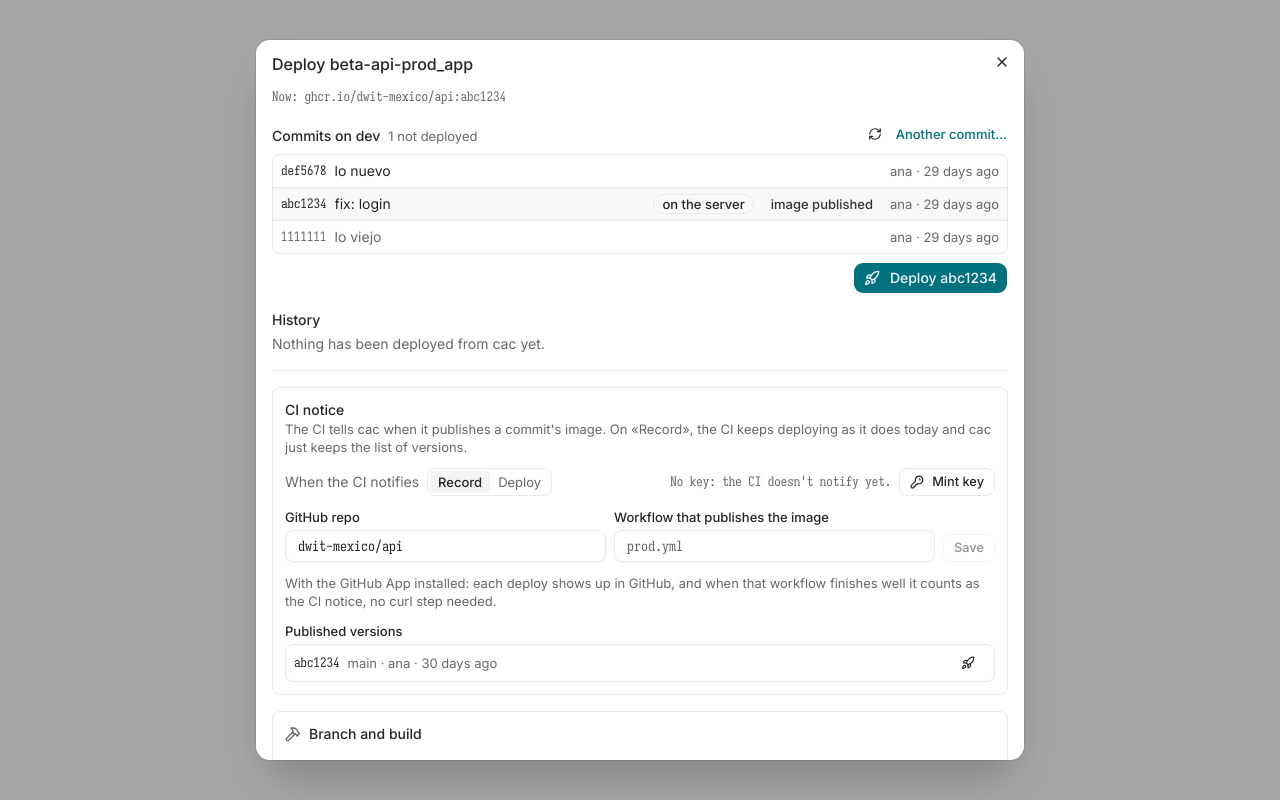
Test: qué commit se despliega › lo elegido a mano se suelta si deja de estar en la lista
This screenshot has width=1280, height=800.
Click the option "def5678 lo nuevo ana · 29 days ago": [304, 170] box [273,155,1007,188]
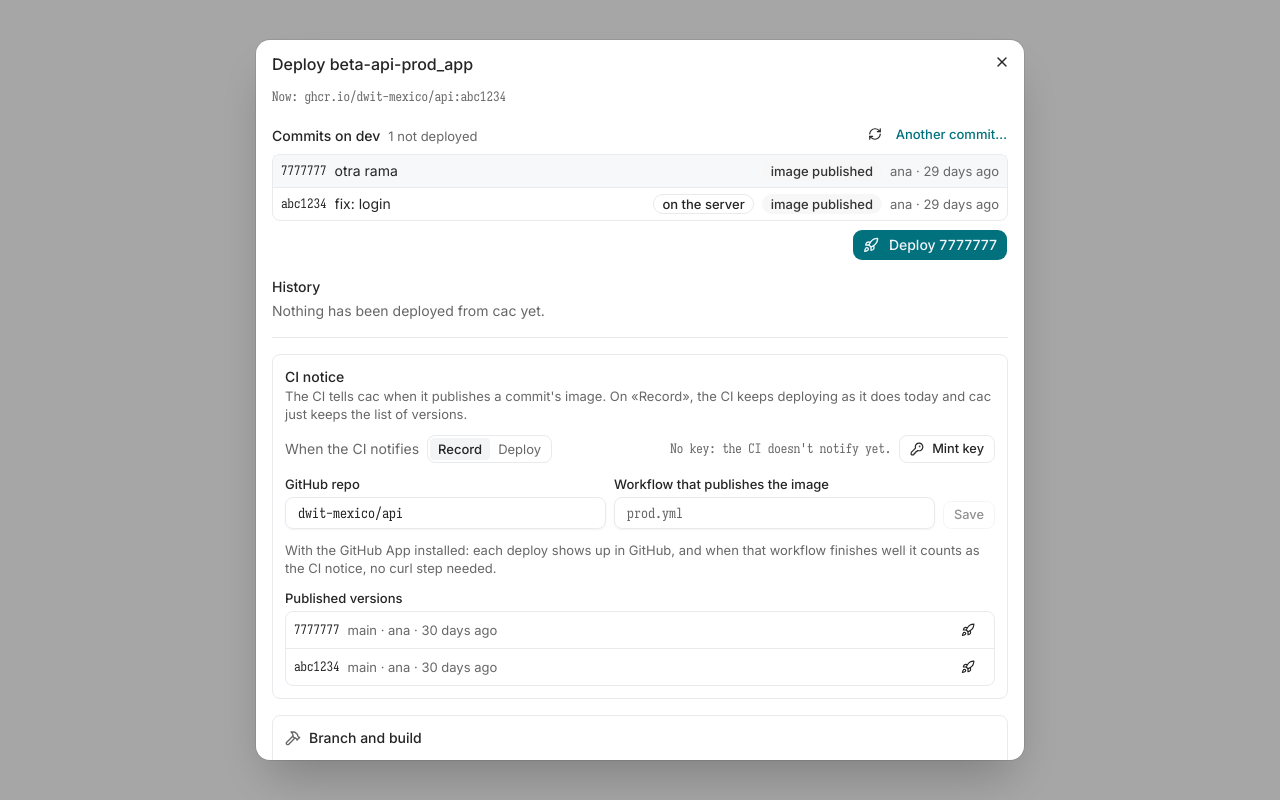
Expected: the button "Deploy 7777777" is shown, [852,229,1008,261]
Now the option "7777777 otra rama image published ana · 29 days ago" is shown, box [273,155,1007,188]
